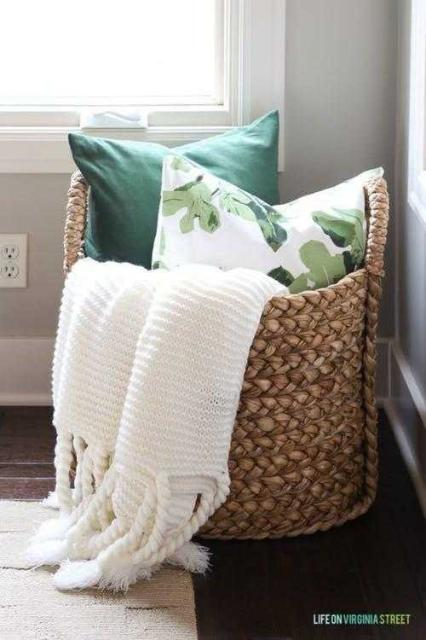pillow: (67, 109, 281, 269), (150, 152, 385, 294)
